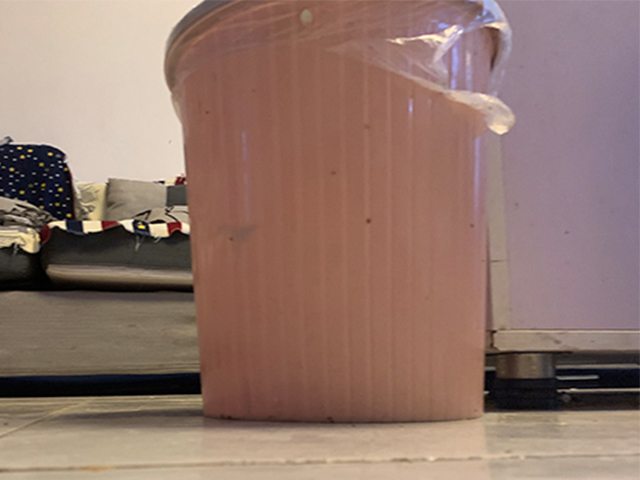sofa: (1, 137, 199, 395)
table: (488, 1, 640, 408)
trashcan: (164, 1, 511, 424)
